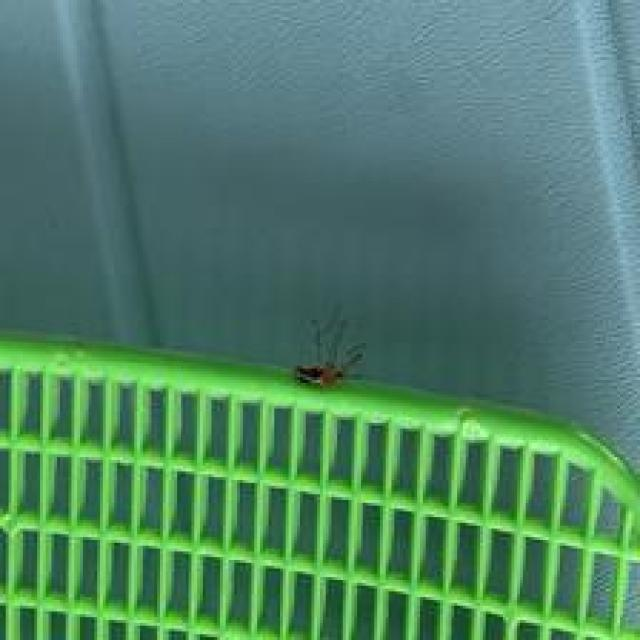Culex: (293, 306, 367, 388)
